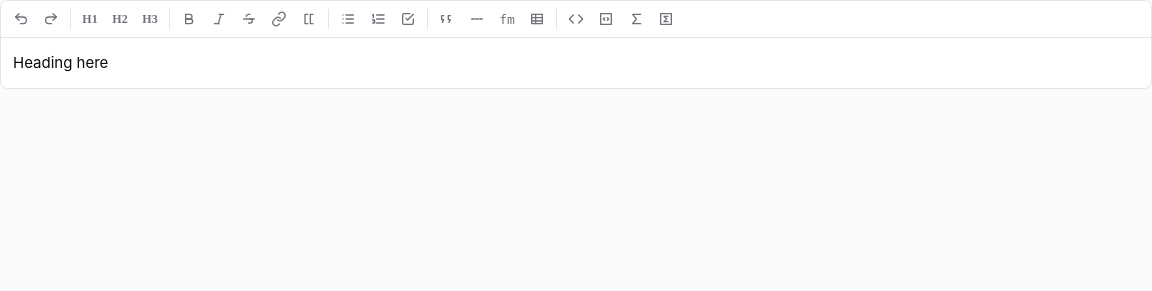
it: right-clicking a word selects it and opens the grouped menu
Right-click the field labelled "Heading here".
right_click(61, 62)  # box [13,53,108,72]
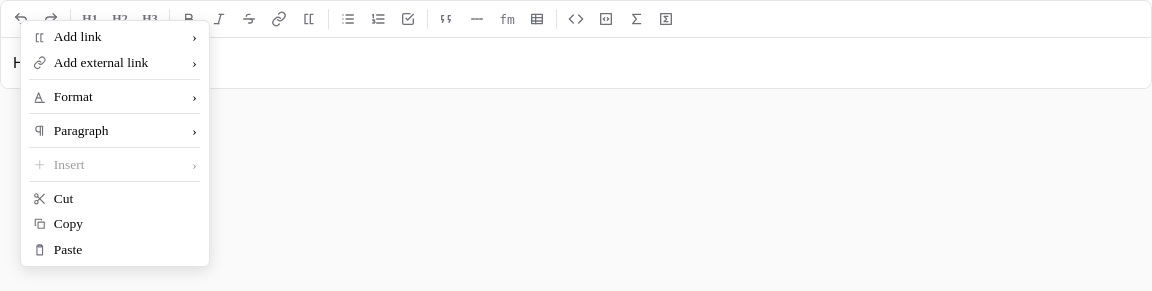
Expected: the element with class "cm-inplace-menu-panel" shows "Add link", [25,25,205,50]
Expected: the element with class "cm-inplace-menu-panel" shows "Format", [25,84,205,110]
